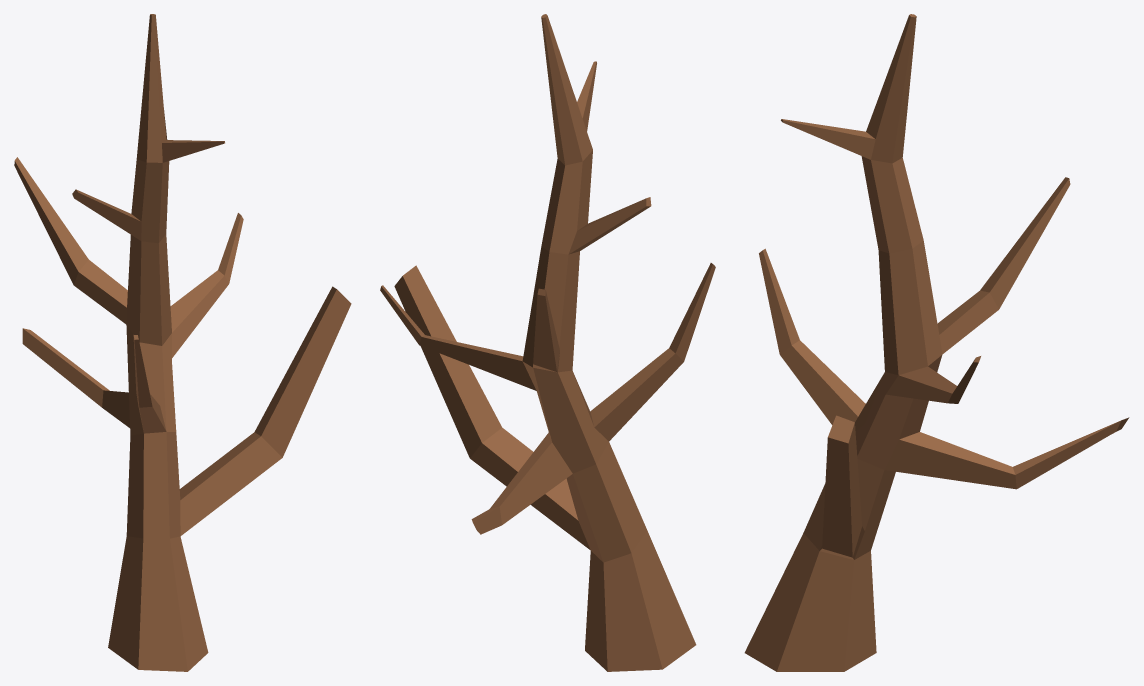
File: tree-summer-trunk-3-004.glb
3 renders of one model, left to right at view 1: azimuth 30°, elevation 25°; view 2: azimuth 150°, elevation 25°; view 3: azimuth 270°, elevation 25°, orthographic. The views are drawn at different scales.
Parts seen in each view (by area): view 1: Trunk 3_110; view 2: Trunk 3_110; view 3: Trunk 3_110.
Part boxes in pixels (box(x1,y1,x2,y2)): Trunk 3_110: box(14, 14, 351, 671); Trunk 3_110: box(380, 14, 715, 671); Trunk 3_110: box(744, 14, 1129, 671).
Bounding box in the file's own units: 0.729 × 1.64 × 0.8683.
